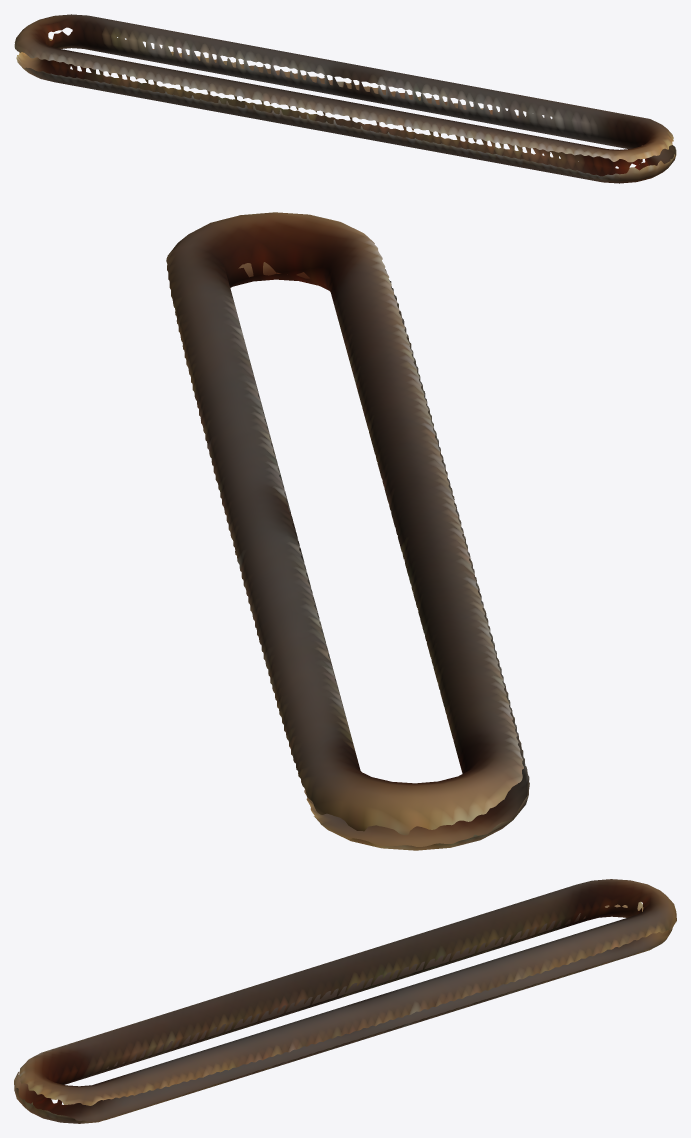
The model's file is rrubber.fbx.
The picture shows the model from 3 angles, top to bottom: view 1: azimuth 30°, elevation 25°; view 2: azimuth 150°, elevation 25°; view 3: azimuth 270°, elevation 25°; orthographic projection. The views are drawn at different scales.
Parts seen in each view (by area): view 1: rrubber; view 2: rrubber; view 3: rrubber.
Boxes of the visible parts, x1,y1,x2,y2 form: rrubber: (14, 14, 676, 183); rrubber: (166, 212, 529, 850); rrubber: (14, 879, 676, 1123).
Size of the model in its own units: 7.06 by 0.5054 by 8.86.
Materials: 1 (1 with a texture image).
